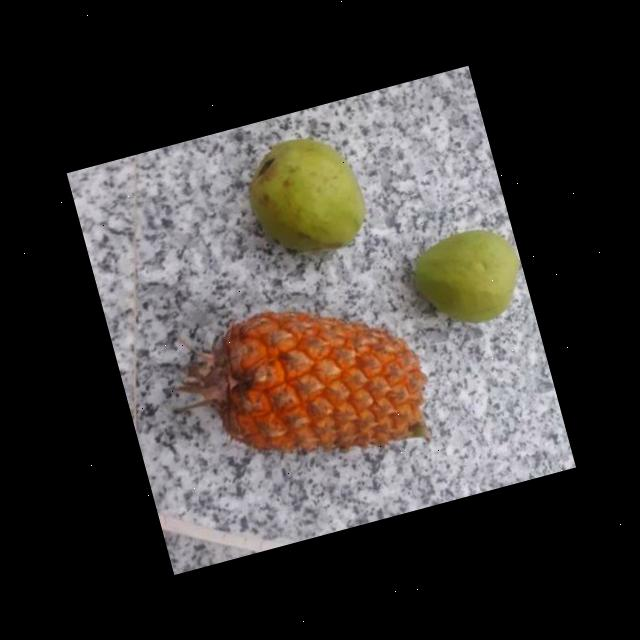guava: (237, 130, 371, 276), (406, 220, 528, 338)
pineapple: (198, 274, 438, 488)
